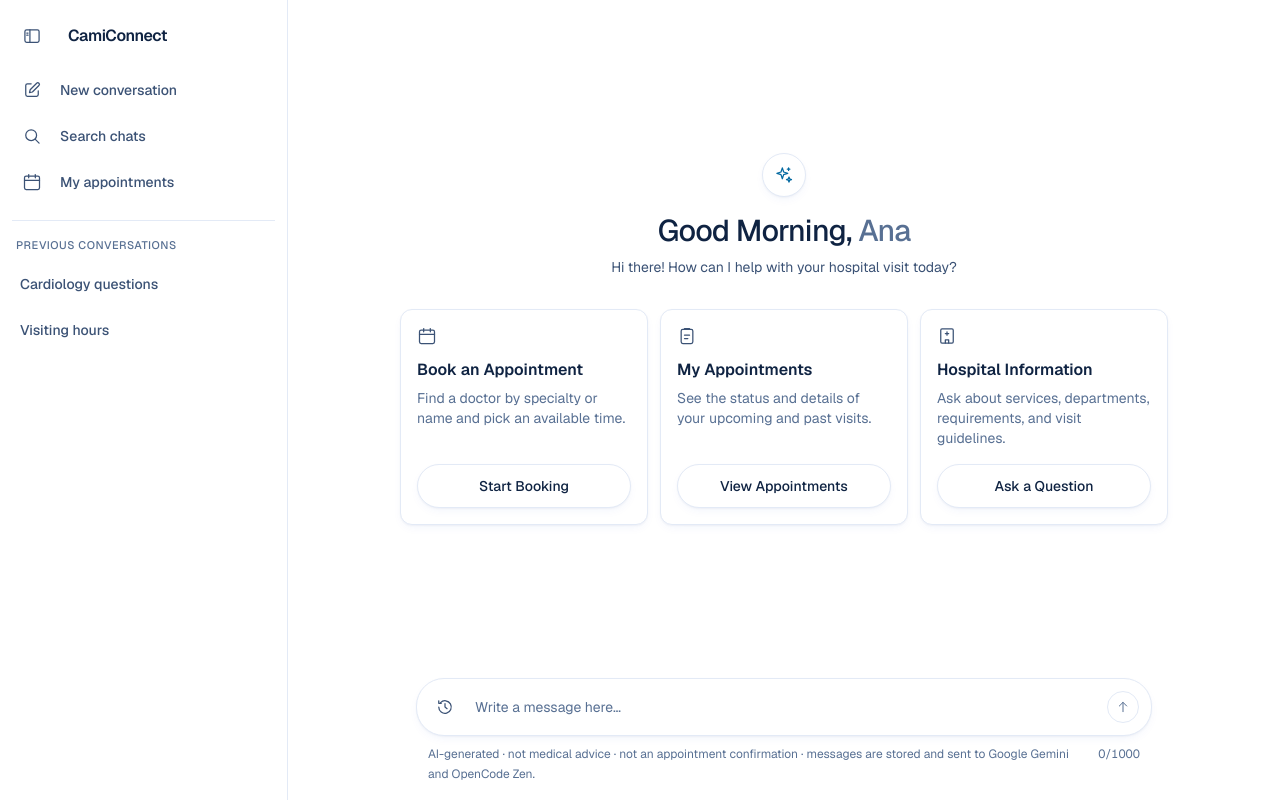
ChatShell composer › counts characters against the 1000 limit
This screenshot has width=1280, height=800.
Type "Hello" into the text box labelled "message" at (784, 707), box [471,685,1097,729]
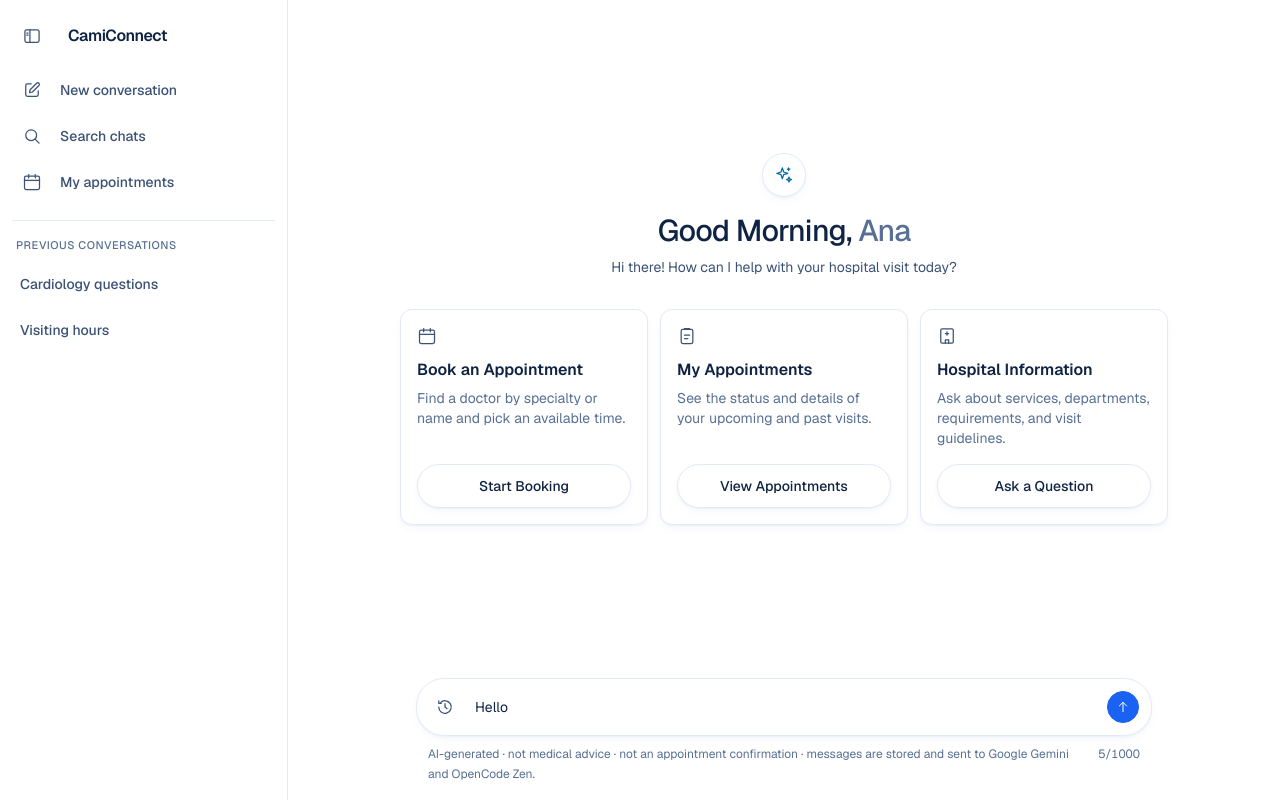
Check: the text "5/1000" is shown, box [1098,744,1140,764]
